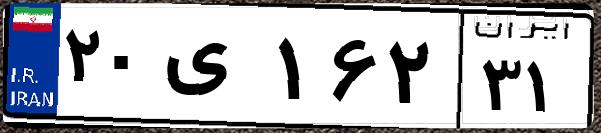0: (110, 28, 158, 98)
1: (270, 28, 330, 110), (525, 38, 570, 115)
2: (385, 28, 445, 110), (57, 26, 110, 100)
3: (475, 38, 525, 113)
6: (330, 28, 385, 110)
ی: (158, 20, 270, 120)
